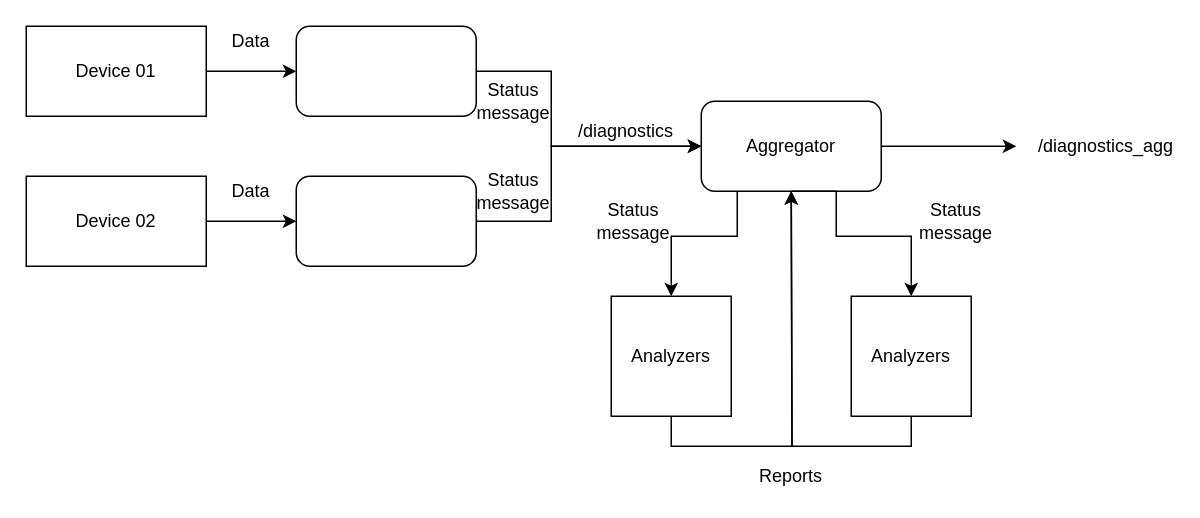
Image size: 1200x518. Some labels were removed from this diagram. The box of each missing label's shape, as (x1, y1, x2, y2) in pixels:
Updater 01: (295, 25, 476, 116)
Updater 02: (295, 175, 476, 266)
